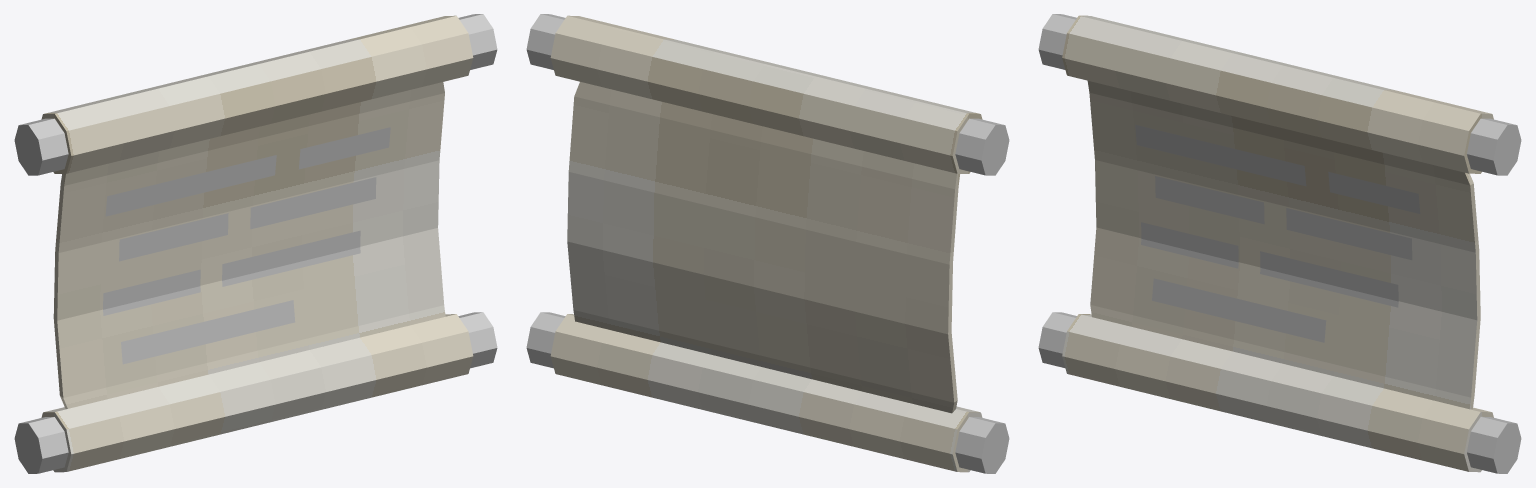
Rendered from cutout.obj.
The picture shows the model from 3 angles, left to right: view 1: azimuth 30°, elevation 25°; view 2: azimuth 150°, elevation 25°; view 3: azimuth 330°, elevation 25°; orthographic projection.
Size of the model in its own units: 0.5637 by 0.4244 by 0.0712.
